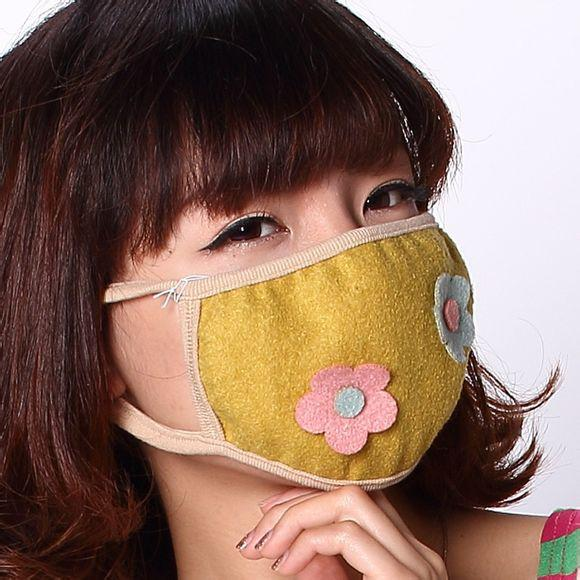OK: (147, 135, 475, 490)
